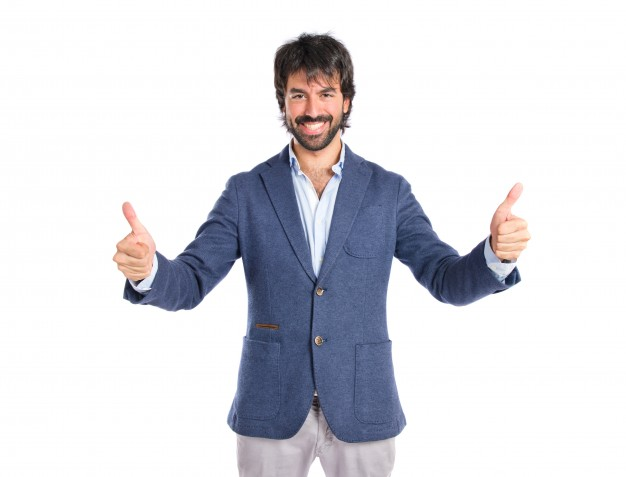thumbsup: (113, 202, 154, 281), (494, 183, 530, 260)
